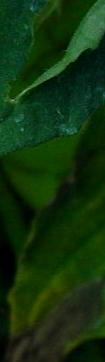Tomato leaf late blight: (0, 0, 105, 247)
